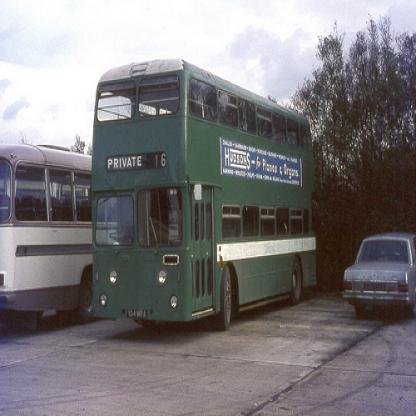bus: (92, 57, 319, 335), (0, 140, 120, 322)
car: (341, 229, 415, 316)
